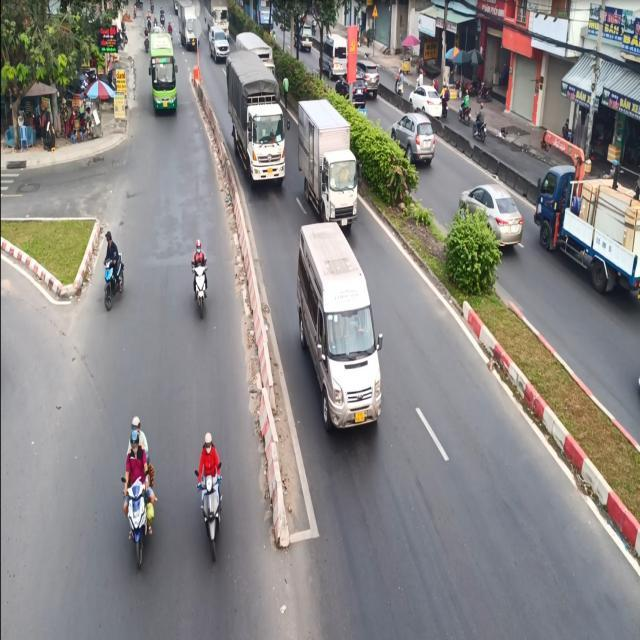bus: (146, 33, 179, 121)
car: (295, 221, 383, 430), (458, 183, 524, 249), (389, 106, 436, 169), (410, 85, 446, 122), (319, 33, 350, 74)
motorcycle: (194, 469, 222, 562), (122, 485, 153, 569), (102, 252, 124, 310), (191, 261, 208, 318)
person: (194, 432, 222, 519), (125, 430, 148, 494), (102, 228, 125, 278), (126, 410, 152, 454), (194, 235, 206, 282)
truck: (534, 156, 640, 300), (225, 49, 287, 186), (296, 97, 359, 229), (178, 1, 204, 54)
